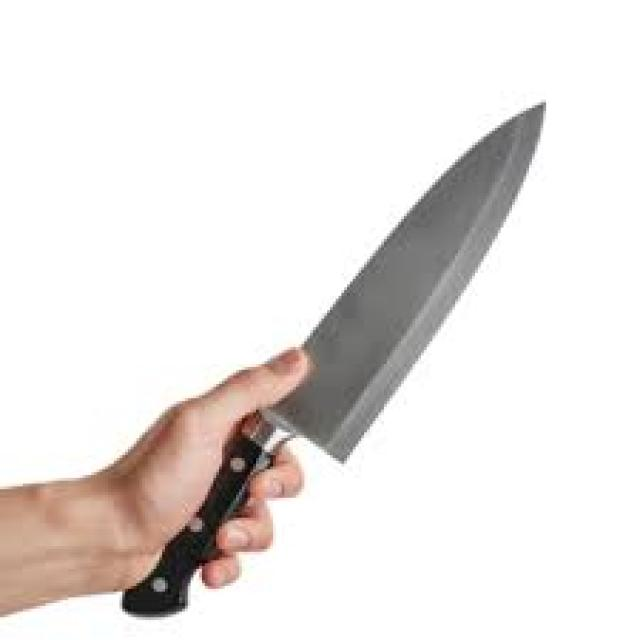Knife: (120, 97, 546, 614)
